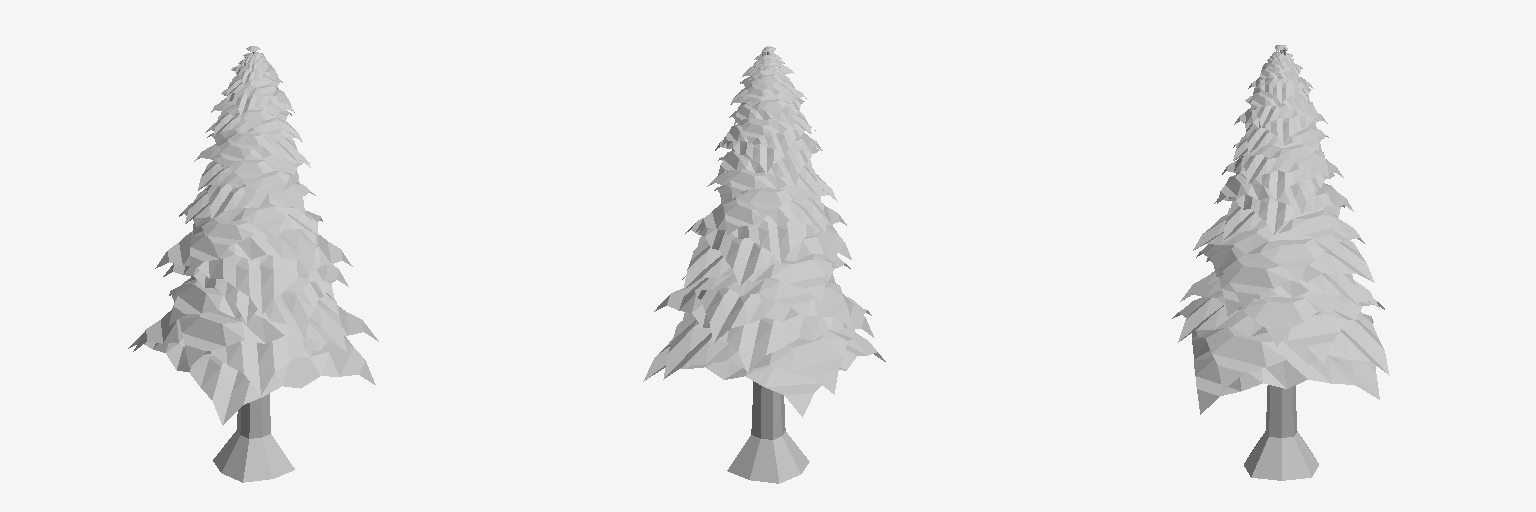
File: game_firtree5.obj
3 views of the same model, side by side, from view 1: azimuth 30°, elevation 25°; view 2: azimuth 150°, elevation 25°; view 3: azimuth 270°, elevation 25° (orthographic).
Parts seen in each view (by area): view 1: Plane.004; view 2: Plane.004; view 3: Plane.004.
Part boxes in pixels (left/top/right/bottom): Plane.004: left=128, top=46, right=378, bottom=482; Plane.004: left=643, top=46, right=885, bottom=483; Plane.004: left=1172, top=45, right=1389, bottom=480.
Bounding box in the file's own units: 11.57 × 24.35 × 11.55.